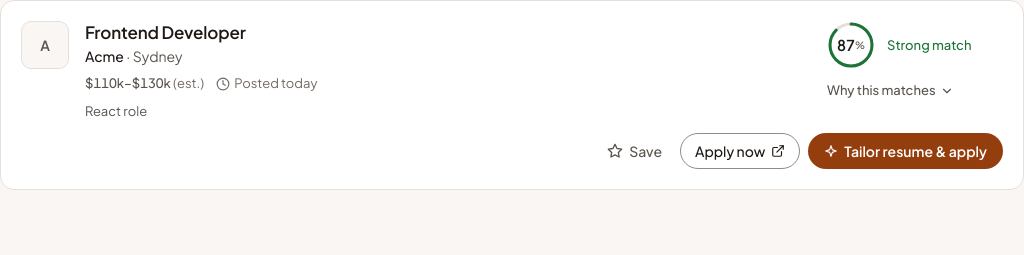
JobCard › labels a predicted salary as an estimate and shows score and reasons
Check: the text "$110k–$130k" is shown, box [85, 75, 171, 91]
Check: the text "(est.)" is shown, box [171, 75, 204, 91]
Click the button "Why this matches" at (890,91), box [827, 81, 954, 100]
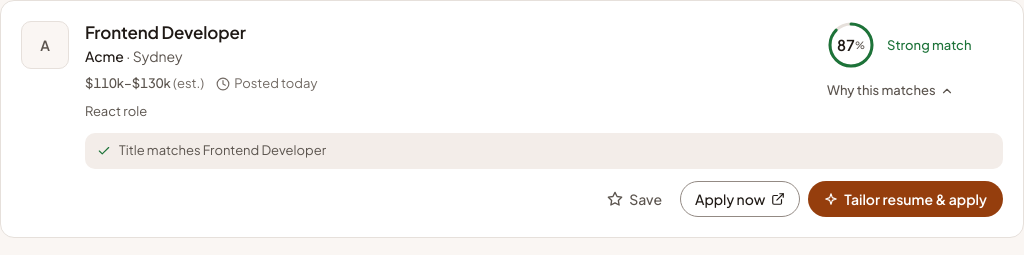
Check: the button "Why this matches" is expanded, box [827, 81, 954, 100]
Check: the list named "Why this matches" reads "Title matches Frontend Developer", box [119, 142, 326, 158]
